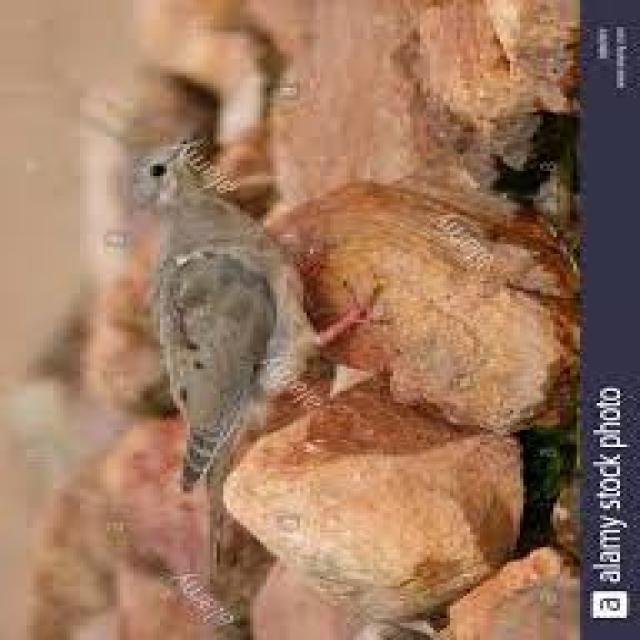pigeon: (112, 118, 387, 508)
